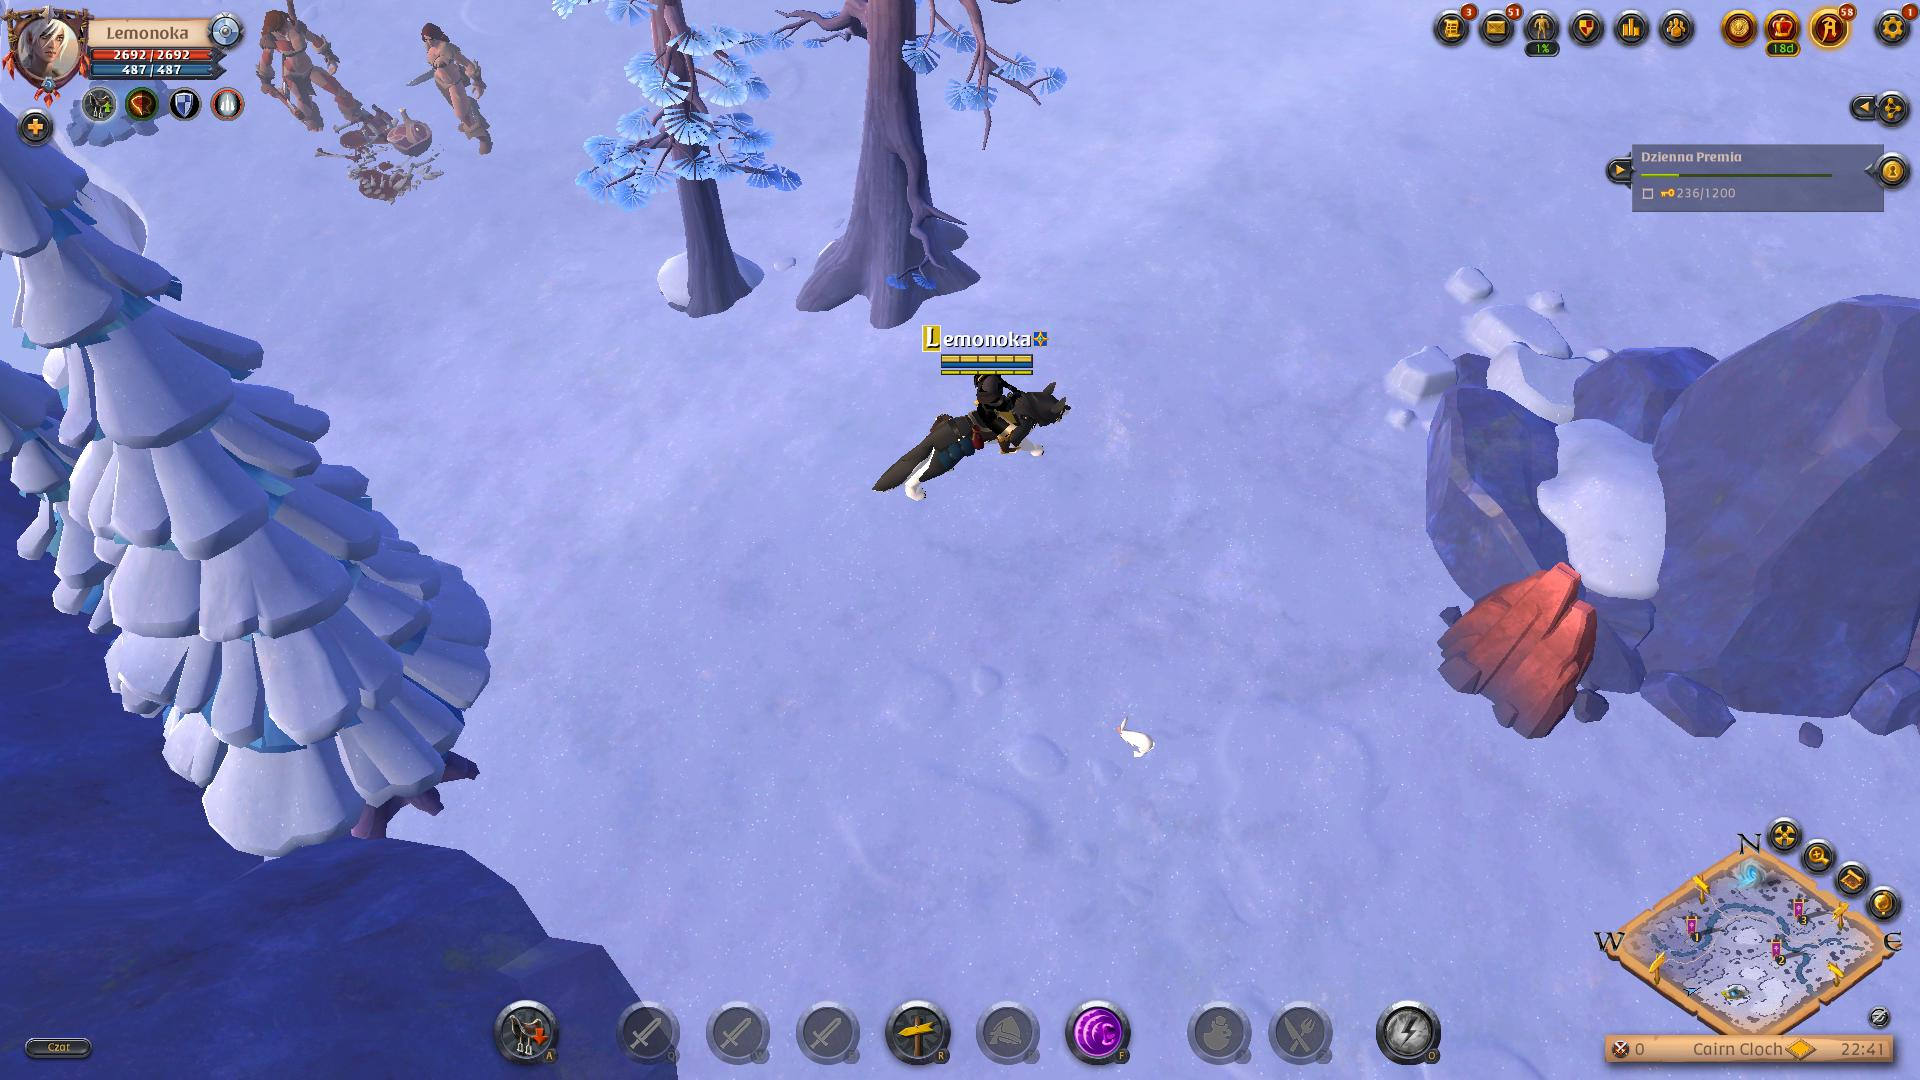rock tier 5: (1433, 571, 1598, 725)
